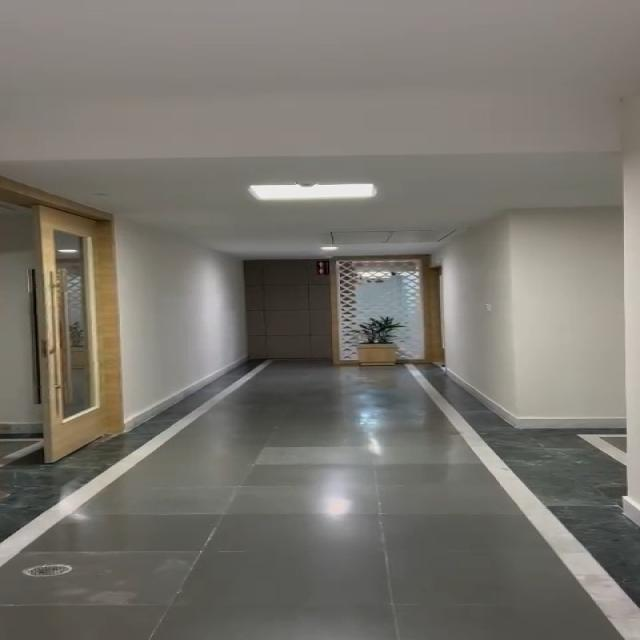door: (11, 191, 114, 458), (238, 257, 447, 370)
floor: (147, 386, 470, 640)
furniture: (339, 301, 426, 398)
wall: (454, 29, 640, 477)
